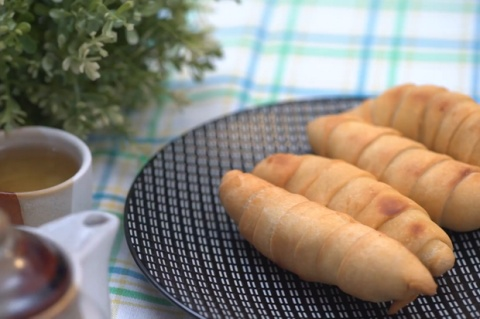pisang_molen: (216, 168, 433, 302), (253, 150, 458, 279), (307, 114, 480, 232)
